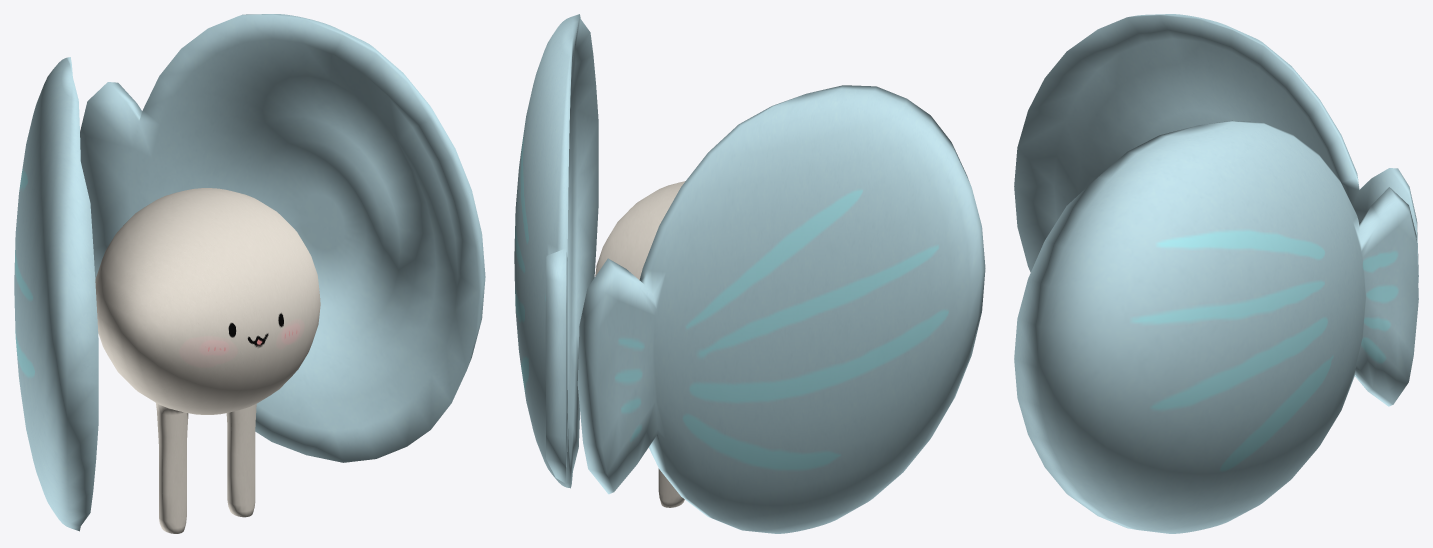
File: shell.glb
3 renders of one model, left to right at view 1: azimuth 30°, elevation 25°; view 2: azimuth 150°, elevation 25°; view 3: azimuth 270°, elevation 25°, orthographic. The views are drawn at different scales.
Parts seen in each view (by area): view 1: Object_2; view 2: Object_2; view 3: Object_2.
Boxes of the visible parts, <box> form: Object_2: <box>14,14,485,533</box>; Object_2: <box>514,14,985,533</box>; Object_2: <box>1014,14,1418,533</box>.
Bounding box in the file's own units: 26.3 × 27.34 × 23.31.
Materials: 1 (1 with a texture image).
